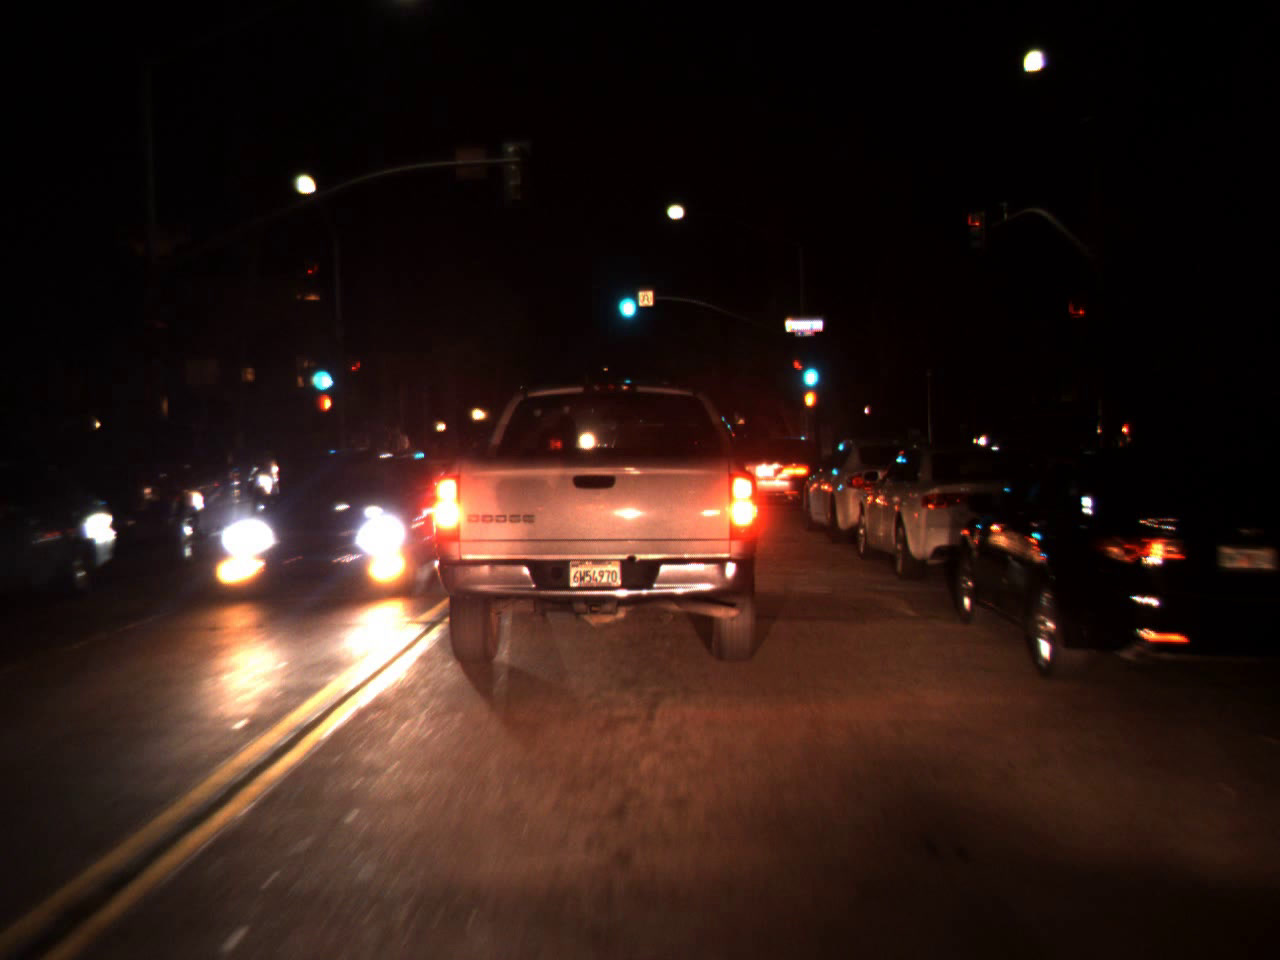go: (612, 273, 640, 324), (305, 349, 335, 397), (797, 343, 822, 394)
